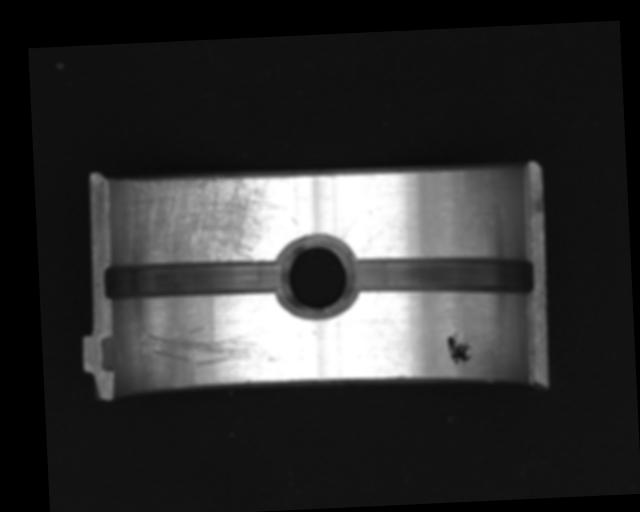blot: (446, 331, 474, 367)
gap: (347, 250, 539, 304), (102, 257, 285, 303)
hole: (274, 237, 358, 315)
nick: (145, 321, 281, 372), (337, 207, 366, 243)
scratch: (118, 172, 292, 267)
